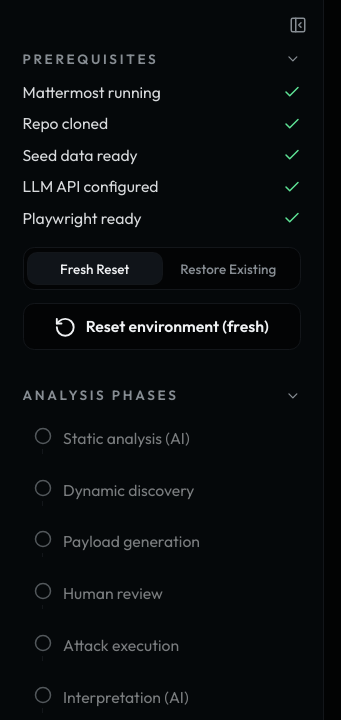
Test: Sidebar › shows a prerequisites-ready indicator on the collapsed rail when the target is up
Click the button named "collapse sidebar" at (298, 25), box top-left (282, 9), bottom-right (314, 40)
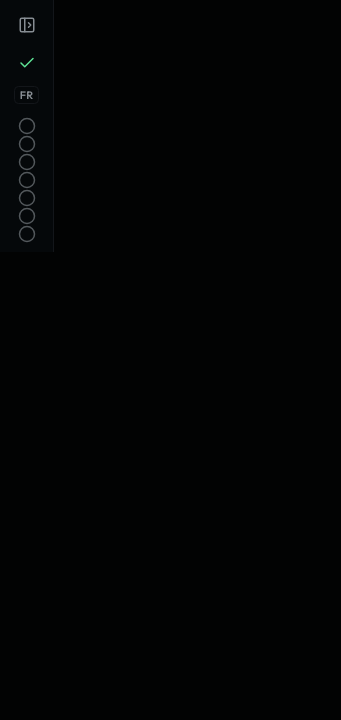
Result: the element named "Prerequisites ready" is shown at top-left (18, 54), bottom-right (36, 72)
